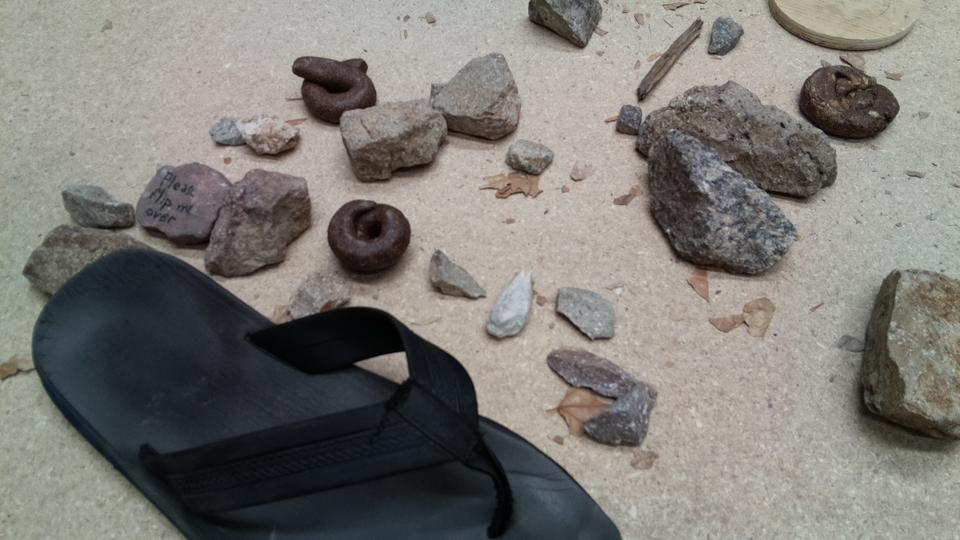poop: (799, 62, 903, 142), (325, 197, 410, 278), (290, 51, 377, 124)
